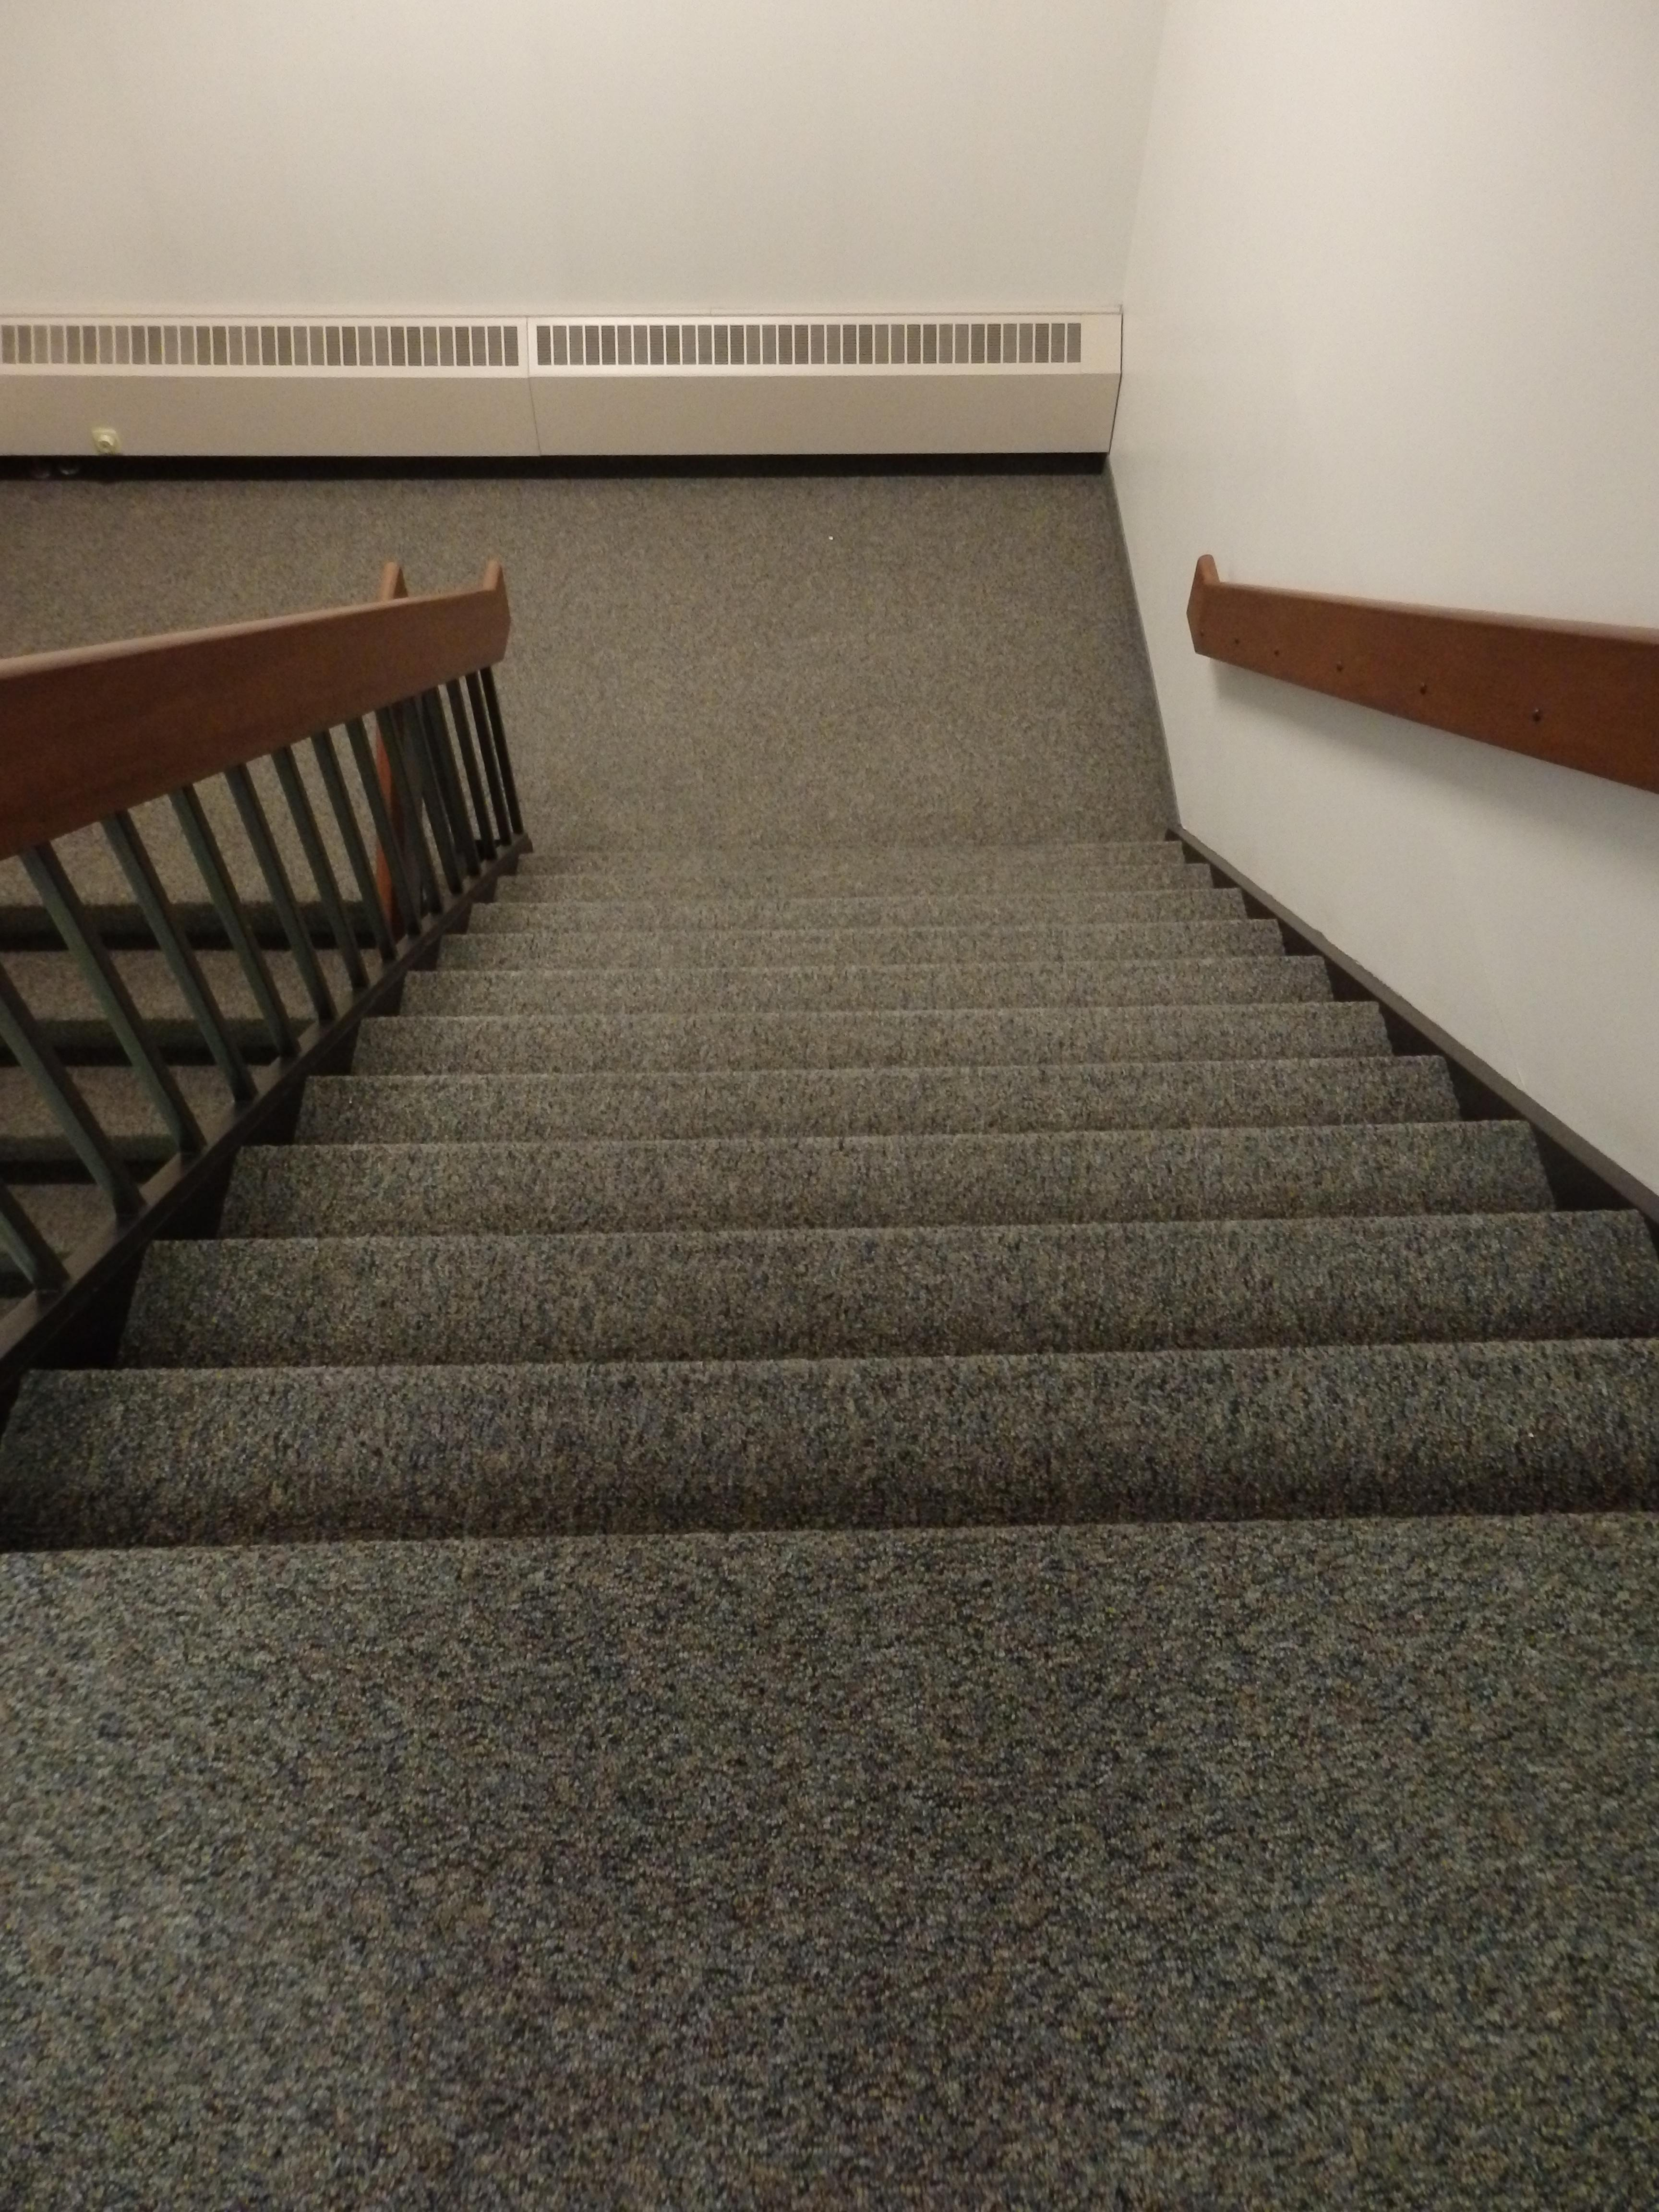stairs_down: (173, 826, 1534, 1548)
